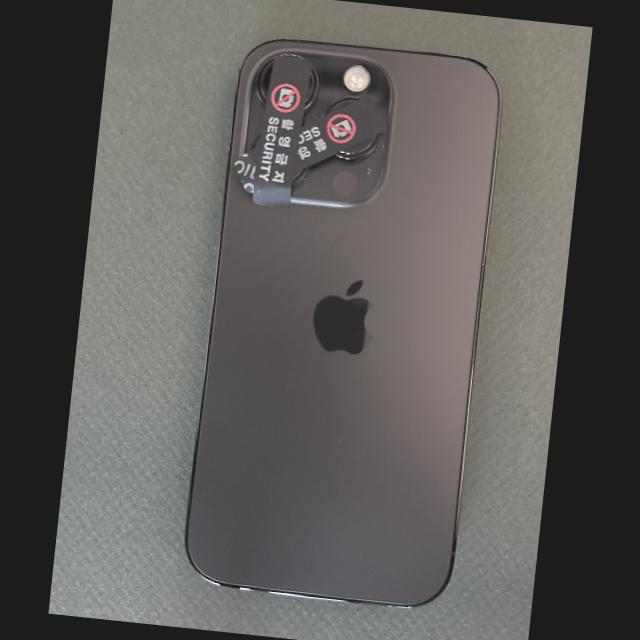lens: (340, 135, 376, 153), (260, 64, 271, 97)
phone: (183, 37, 502, 607)
sticker: (253, 56, 311, 207), (293, 97, 385, 177)
